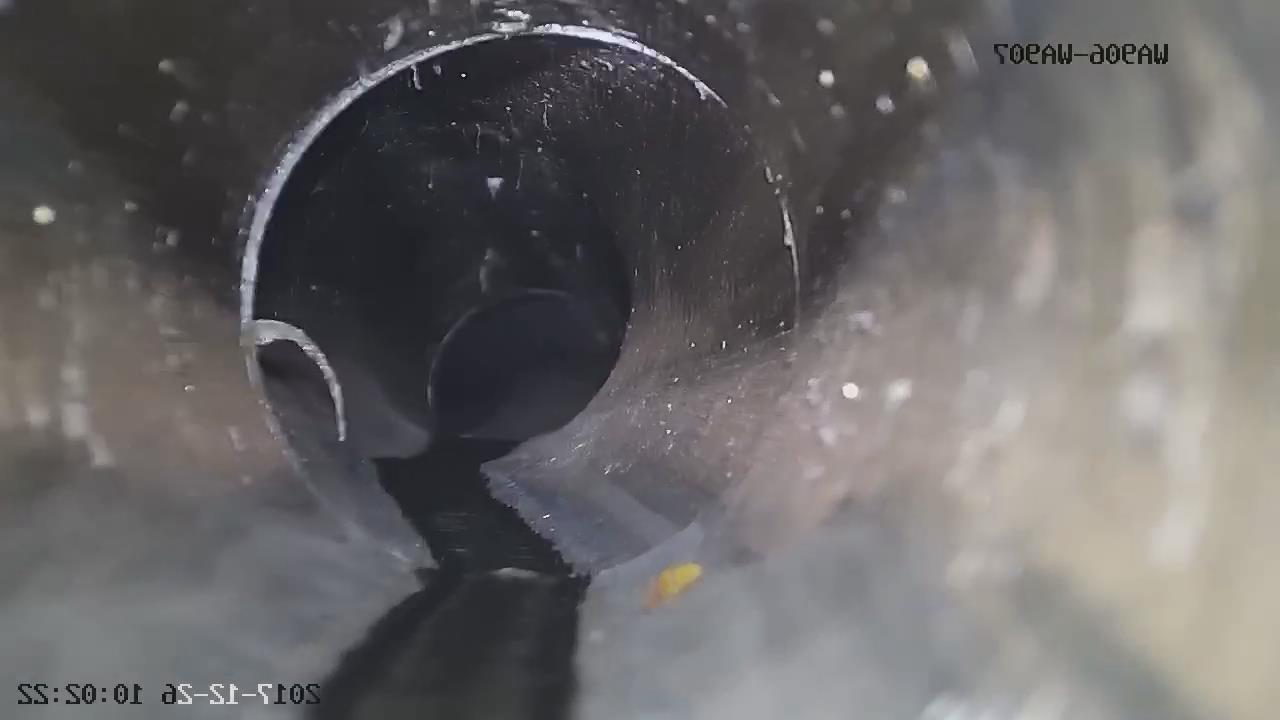CKTJ: (240, 24, 719, 334), (247, 347, 311, 488)
SG: (243, 319, 348, 443)
